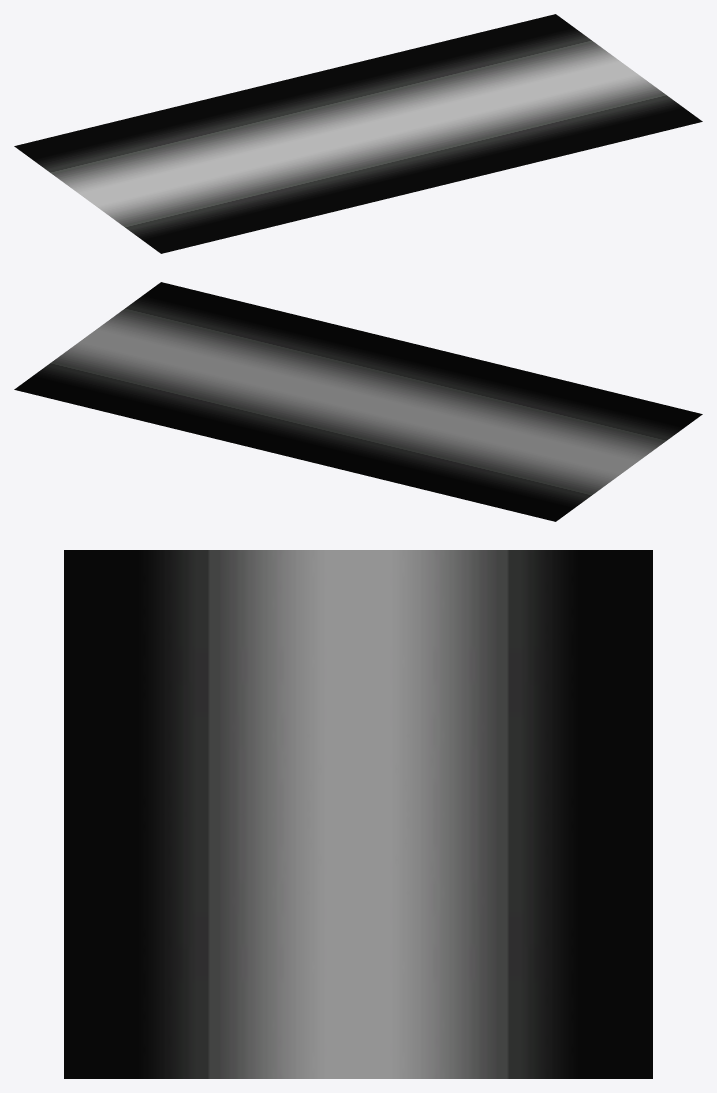
File: pb_forcefield_cy_glow_small.glb
The picture shows the model from 3 angles, top to bottom: view 1: azimuth 30°, elevation 25°; view 2: azimuth 150°, elevation 25°; view 3: azimuth 270°, elevation 25°; orthographic projection. The views are drawn at different scales.
Parts seen in each view (by area): view 1: pb_forcefield_cy_glow_small_0; view 2: pb_forcefield_cy_glow_small_0; view 3: pb_forcefield_cy_glow_small_0.
Boxes of the visible parts, <box> form: pb_forcefield_cy_glow_small_0: <box>14,14,702,253</box>; pb_forcefield_cy_glow_small_0: <box>14,282,702,521</box>; pb_forcefield_cy_glow_small_0: <box>64,550,652,1078</box>.
Size of the model in its own units: 329 by 0 by 155.
Materials: 1 (1 with a texture image).
